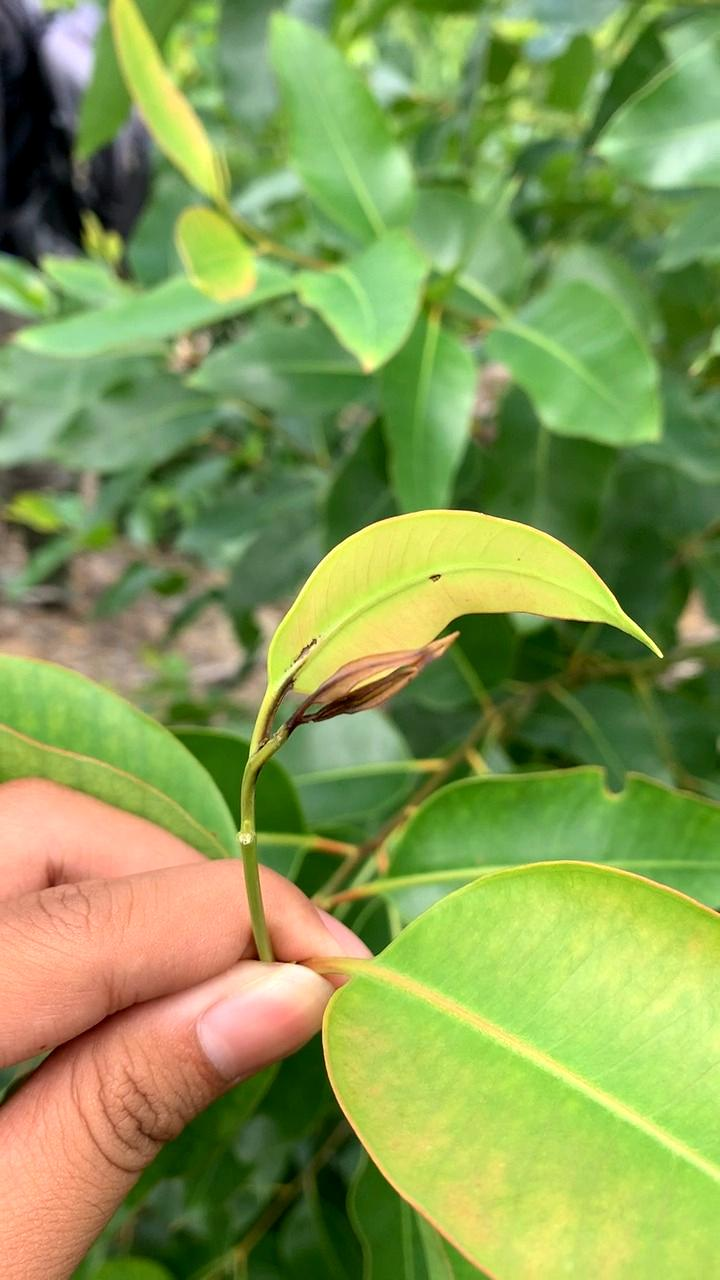Helopeltis-Withered Sprout: (286, 628, 465, 729)
